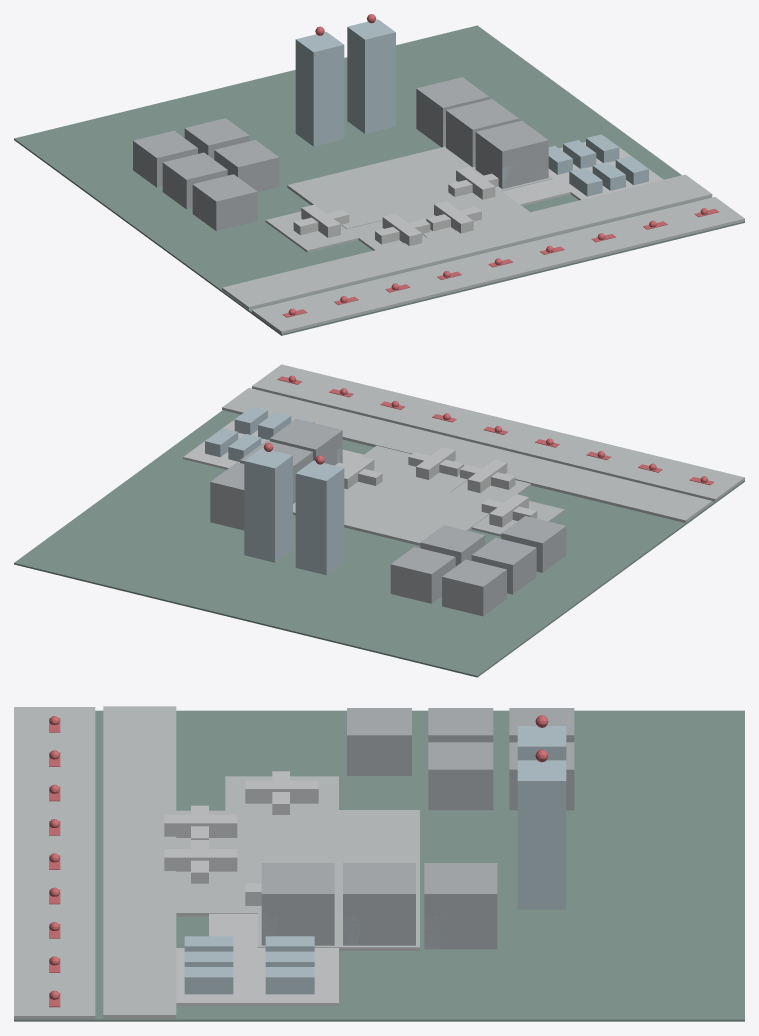
Rendered from stage_22.glb.
The picture shows the model from 3 angles, top to bottom: view 1: azimuth 30°, elevation 25°; view 2: azimuth 150°, elevation 25°; view 3: azimuth 270°, elevation 25°; orthographic projection. The views are drawn at different scales.
Parts seen in each view (by area): view 1: geometry_0; view 2: geometry_0; view 3: geometry_0.
Part boxes in pixels (box(x1,y1,x2,y2)): geometry_0: box(14, 14, 744, 335); geometry_0: box(14, 364, 744, 677); geometry_0: box(14, 706, 744, 1021).
Bounding box in the file's own units: 9 × 2.06 × 9.
